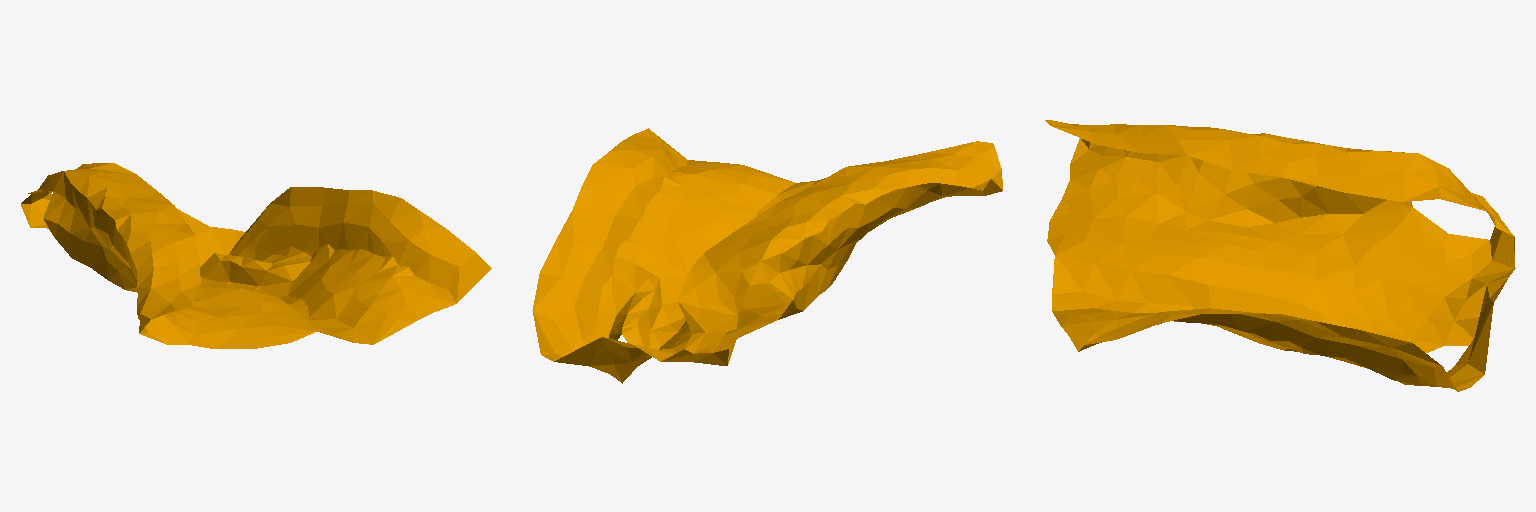
robot.urdf — init:
<?xml version='1.0' encoding='utf-8'?>
<robot name="init">
<link name="link_0"><inertial><mass value="1.0" /><origin rpy="0 0 0" xyz="0.000000 0.000000 0.000000" /><inertia ixx="1.0" ixy="0.0" ixz="0.0" iyy="1.0" iyz="0.0" izz="1.0" /></inertial><visual><origin rpy="0 0 0" xyz="0.000000 0.000000 0.000000" /><geometry><mesh filename="./clothHuman/cloth/921.obj" /></geometry></visual><collision><origin rpy="0 0 0" xyz="0.000000 0.000000 0.000000" /><geometry><mesh filename="./clothHuman/cloth/921.obj" /></geometry></collision></link></robot>

--- Render facts (derived) ---
3 views of the same robot in one strip: view 1: azimuth 30°, elevation 25°; view 2: azimuth 150°, elevation 25°; view 3: azimuth 270°, elevation 25° (orthographic).
Model init with 1 links and 0 joints (none), rooted at link_0, posed every joint at zero.
Visible links, largest first — view 1: link_0; view 2: link_0; view 3: link_0.
Link boxes in pixels (box(x1,y1,x2,y2)): link_0: box(21, 163, 491, 348); link_0: box(532, 128, 1002, 383); link_0: box(1045, 120, 1515, 391).
Bounding box of the posed robot: 3.52 × 3.81 × 1.47 m (x, y, z).
1 mesh visuals loaded from 1 distinct referenced files (1 OBJ).